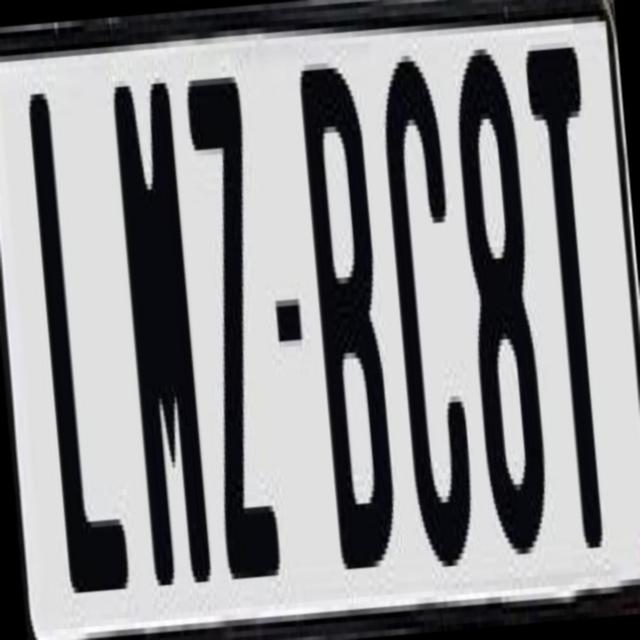8: (444, 34, 558, 580)
B: (297, 47, 408, 587)
C: (374, 42, 479, 586)
L: (26, 71, 130, 604)
M: (106, 75, 216, 616)
T: (522, 46, 628, 573)
Z: (182, 58, 289, 597)
